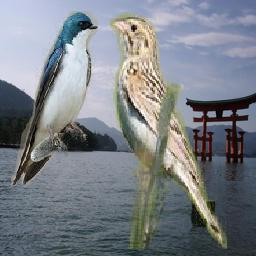Sparrow: (111, 13, 228, 250)
Swallow: (12, 11, 99, 187)
